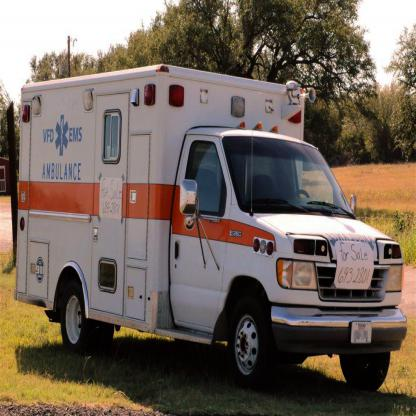Ambulance: (14, 64, 410, 392)
